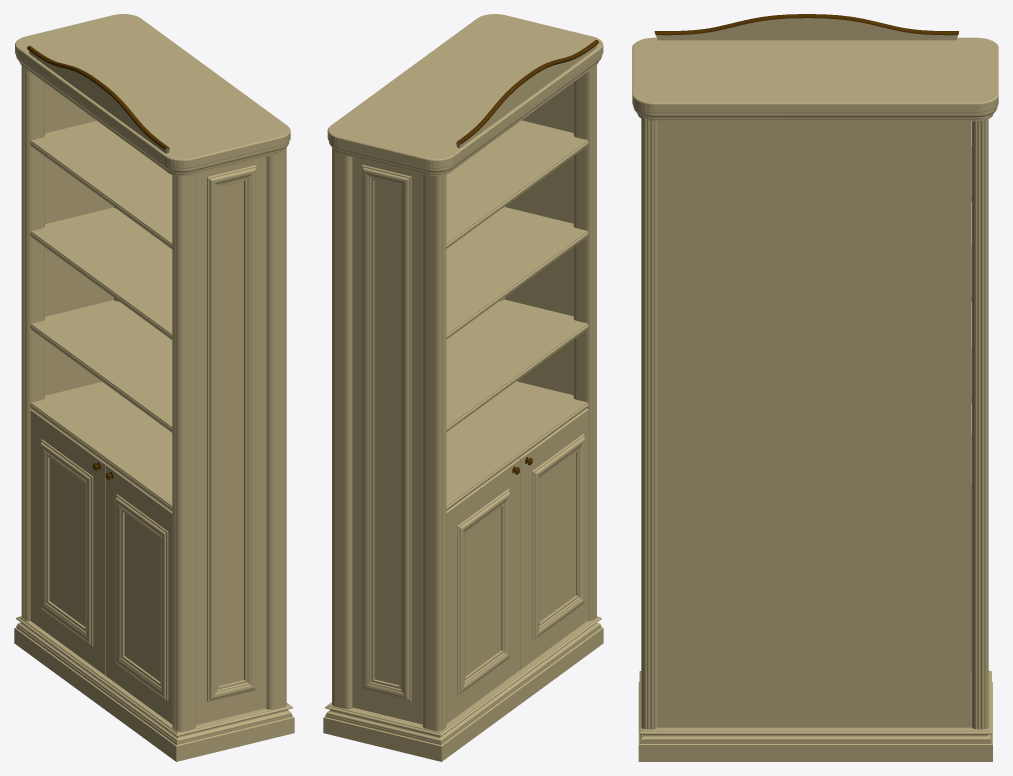
File: Bookcase.FBX
3 renders of one model, left to right at view 1: azimuth 30°, elevation 25°; view 2: azimuth 150°, elevation 25°; view 3: azimuth 270°, elevation 25°, orthographic. The views are drawn at different scales.
Parts seen in each view (by area): view 1: polySurface4980; view 2: polySurface4980; view 3: polySurface4980.
Part boxes in pixels (x1=…): polySurface4980: x1=14, y1=14, x2=294, y2=761; polySurface4980: x1=323, y1=14, x2=603, y2=761; polySurface4980: x1=632, y1=14, x2=998, y2=761.
Bounding box in the file's own units: 47.88 × 231 × 112.
